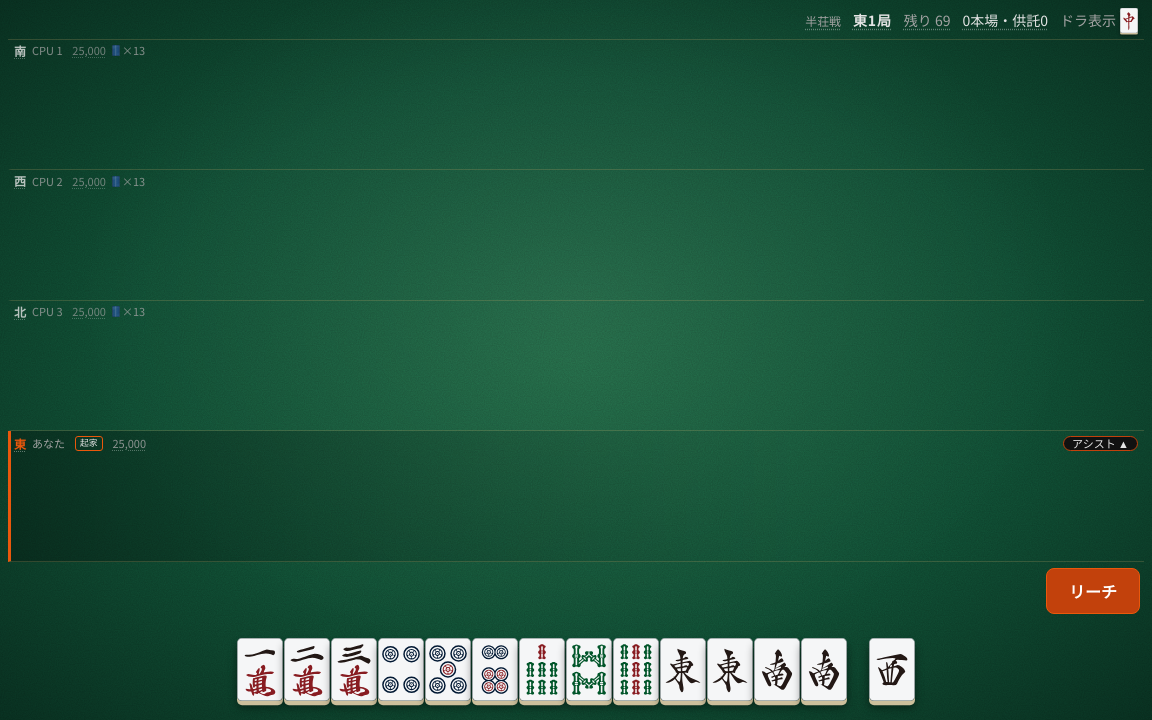
Test: 横 4 列のアシストの欄（第26 Q1=C） › 開いた欄の見出しの「たたむ ▼」で閉じられる（欄が帯「アシスト ▼」を覆っても閉じられるように）
Click the button "アシスト ▲": (1101, 444) left=1063, top=436, right=1138, bottom=451
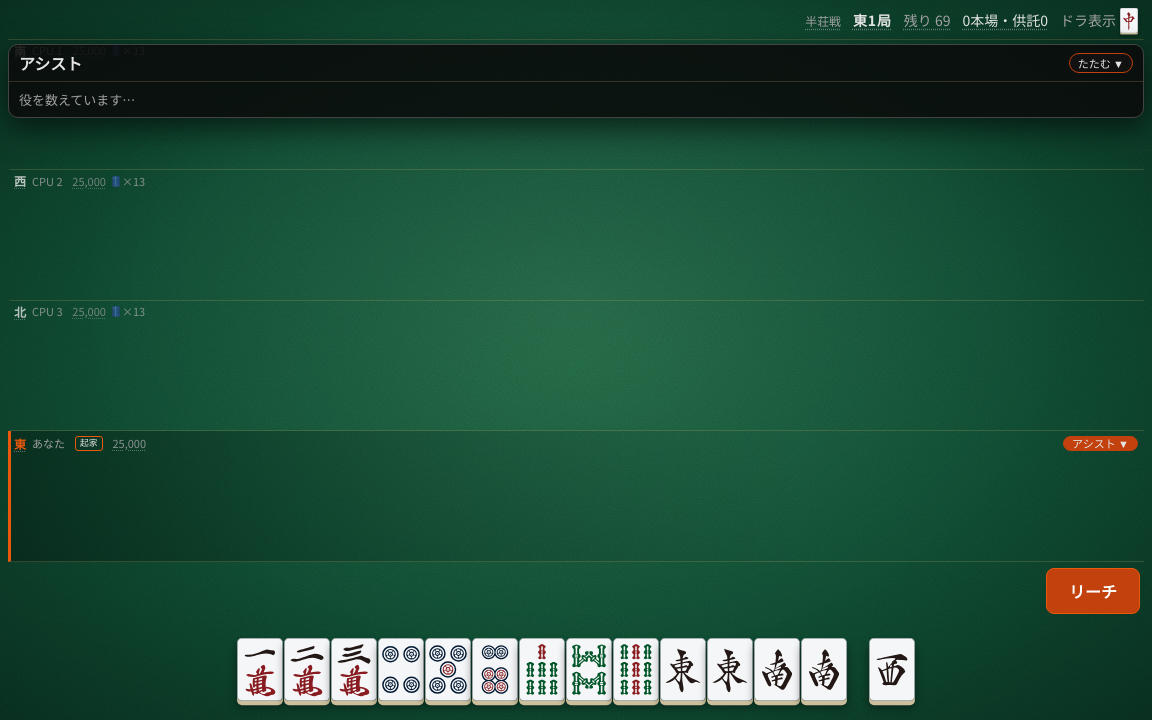
Result: the element with class "assist-over" is shown at left=8, top=44, right=1144, bottom=118
Click the button "たたむ ▼": (1101, 63) left=1069, top=53, right=1133, bottom=73
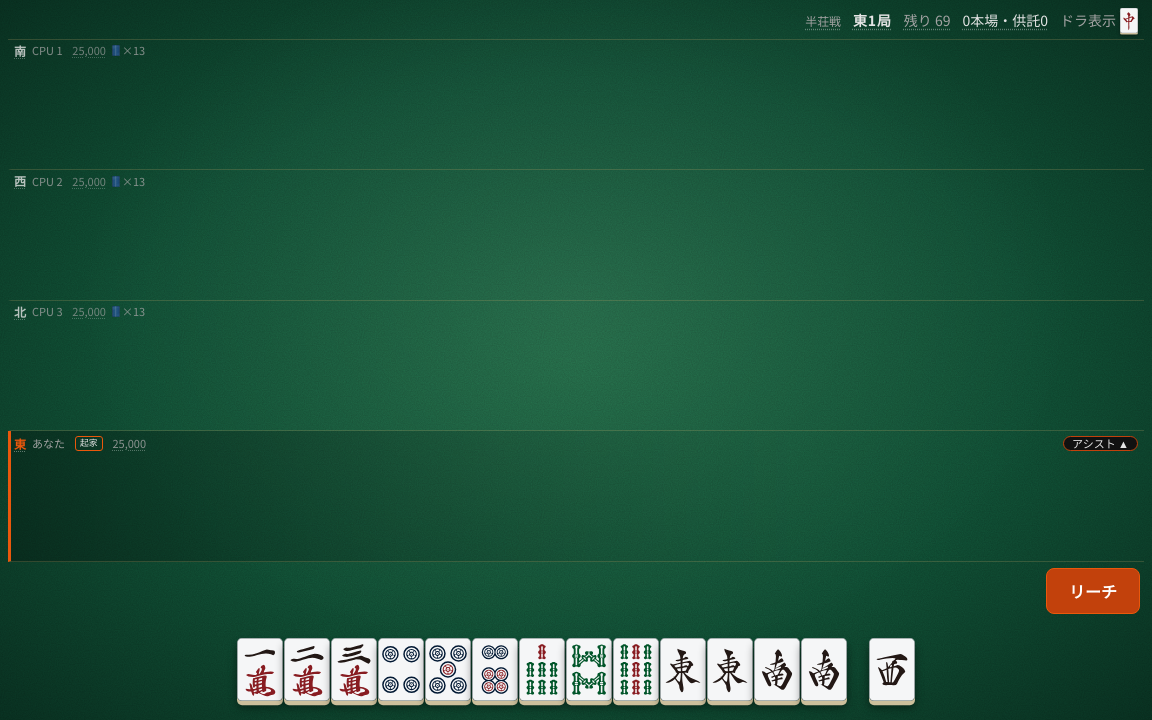
Result: the element with class "assist-over" is gone
Result: the button "アシスト ▲" is shown at left=1063, top=436, right=1138, bottom=451
